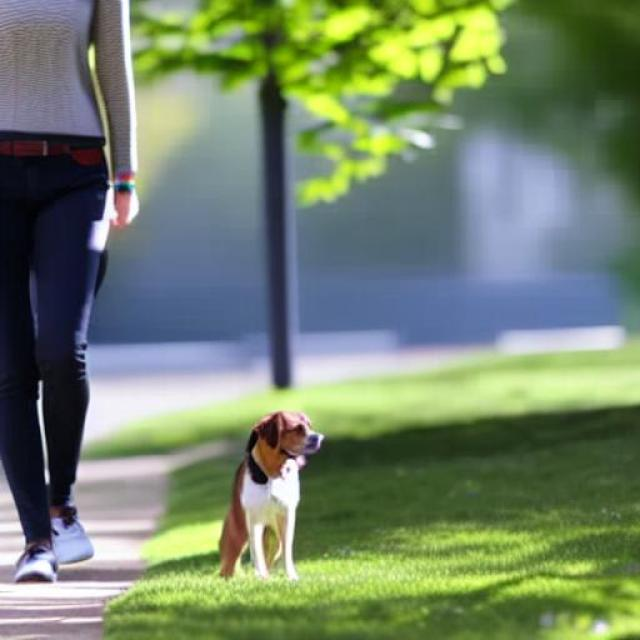Unleashed_Dog: (0, 136, 328, 584)
